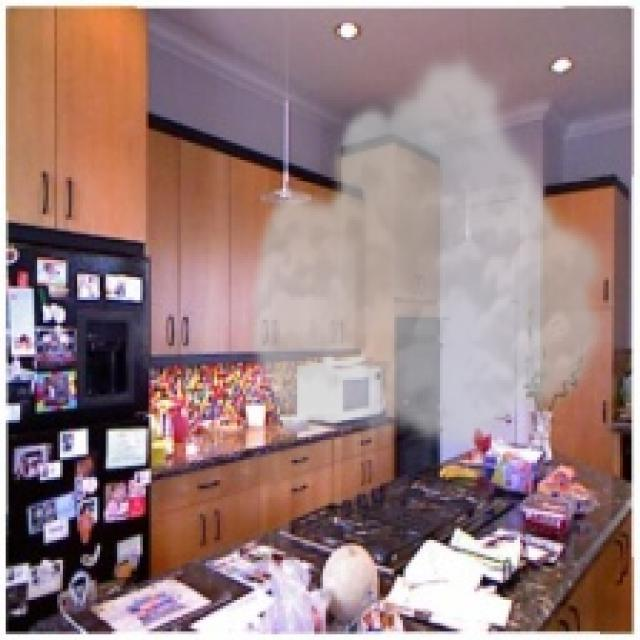Smoke: (240, 48, 617, 454)
